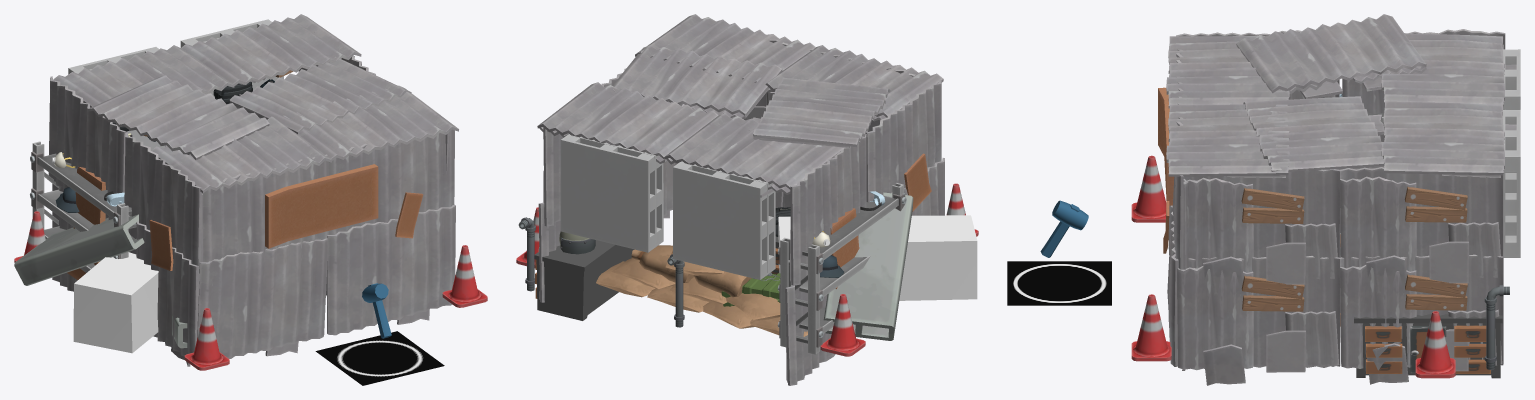
The model's file is Merchant_Equipment.fbx.
The picture shows the model from 3 angles, left to right: view 1: azimuth 30°, elevation 25°; view 2: azimuth 150°, elevation 25°; view 3: azimuth 270°, elevation 25°; orthographic projection. The views are drawn at different scales.
Visible parts, largest first — view 1: Mat_MetalBoard_01_1, Mat_PaperBox_02, Mat_WoodBoards_01 1, Mat_StreetAssets01_2, BuildingInteractRing, Mat_Shelf_01_03, Mat_Roadblocks01, Mat_PlasticPallet_01, EdgeLight_build, ColorA, ColorA Darker; view 2: Mat_MetalBoard_01_1, Mat_PlasticPallet_01, Mat_Bags_01_1, Mat_StreetAssets01_2, Mat_WoodBoards_01 1, Mat_Shelf_01_03, Mat_Indoors_Wardrobe_NoWood, Mat_Roadblocks01, Mat_PaperBox_02, ColorA, ColorB, Mat_MetalBoard_01_3 (+2 smaller); view 3: Mat_MetalBoard_01_1, Mat_MetalBoard_01_3, Mat_WoodBoards_01_2, Mat_MetalBoard_01_4, Mat_Roadblocks01, BuildingInteractRing, Mat_PlasticPallet_01, Mat_Indoors_Wardrobe_01, Mat_Indoors_Wardrobe_NoWood, Mat_PaperBox_02, EdgeLight_build, ColorB.
Part boxes in pixels (<box>): Mat_MetalBoard_01_1: <box>48,14,458,366</box>; Mat_PaperBox_02: <box>67,164,423,279</box>; Mat_WoodBoards_01 1: <box>73,252,158,353</box>; Mat_StreetAssets01_2: <box>14,214,187,348</box>; BuildingInteractRing: <box>315,331,444,385</box>; Mat_Shelf_01_03: <box>30,141,136,272</box>; Mat_Roadblocks01: <box>14,211,487,370</box>; Mat_PlasticPallet_01: <box>68,19,283,150</box>; EdgeLight_build: <box>362,283,391,338</box>; ColorA: <box>51,134,132,212</box>; ColorA Darker: <box>112,79,274,141</box>; Mat_MetalBoard_01_1: <box>537,14,944,385</box>; Mat_PlasticPallet_01: <box>560,134,775,279</box>; Mat_Bags_01_1: <box>596,245,807,336</box>; Mat_StreetAssets01_2: <box>823,192,913,340</box>; Mat_WoodBoards_01 1: <box>778,215,977,300</box>; Mat_Shelf_01_03: <box>777,183,906,354</box>; Mat_Indoors_Wardrobe_NoWood: <box>534,236,778,320</box>; Mat_Roadblocks01: <box>516,183,978,356</box>; Mat_PaperBox_02: <box>830,153,931,288</box>; ColorA: <box>559,202,881,306</box>; ColorB: <box>518,217,780,327</box>; Mat_MetalBoard_01_3: <box>633,88,886,194</box>; Mat_MetalBoard_01_1: <box>1166,14,1516,385</box>; Mat_MetalBoard_01_3: <box>1177,44,1503,370</box>; Mat_WoodBoards_01_2: <box>1241,186,1467,311</box>; Mat_MetalBoard_01_4: <box>1227,84,1502,367</box>; Mat_Roadblocks01: <box>1131,155,1455,378</box>; BuildingInteractRing: <box>1007,261,1111,305</box>; Mat_PlasticPallet_01: <box>1501,49,1520,257</box>; Mat_Indoors_Wardrobe_01: <box>1340,234,1490,373</box>; Mat_Indoors_Wardrobe_NoWood: <box>1354,314,1502,378</box>; Mat_PaperBox_02: <box>1158,87,1174,253</box>; EdgeLight_build: <box>1040,200,1088,257</box>; ColorB: <box>1484,285,1509,369</box>.
Bounding box in the file's own units: 6.7 × 3.74 × 7.07.
Materials: 22 (22 with a texture image).
